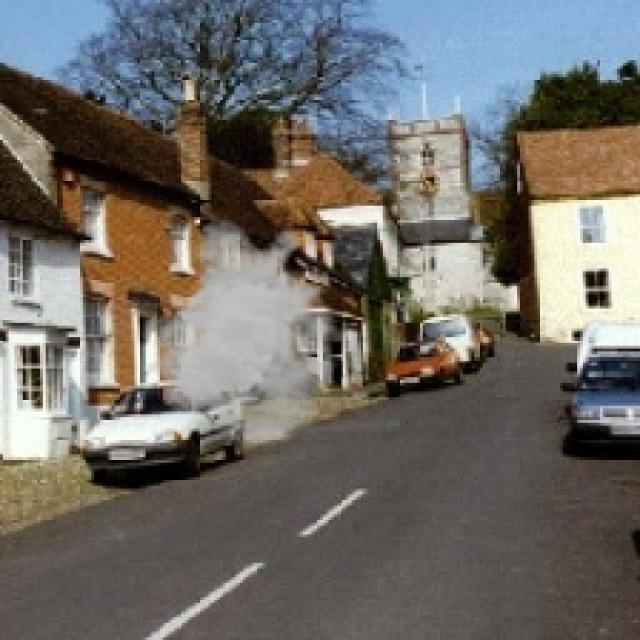Smoke: (146, 217, 360, 446)
